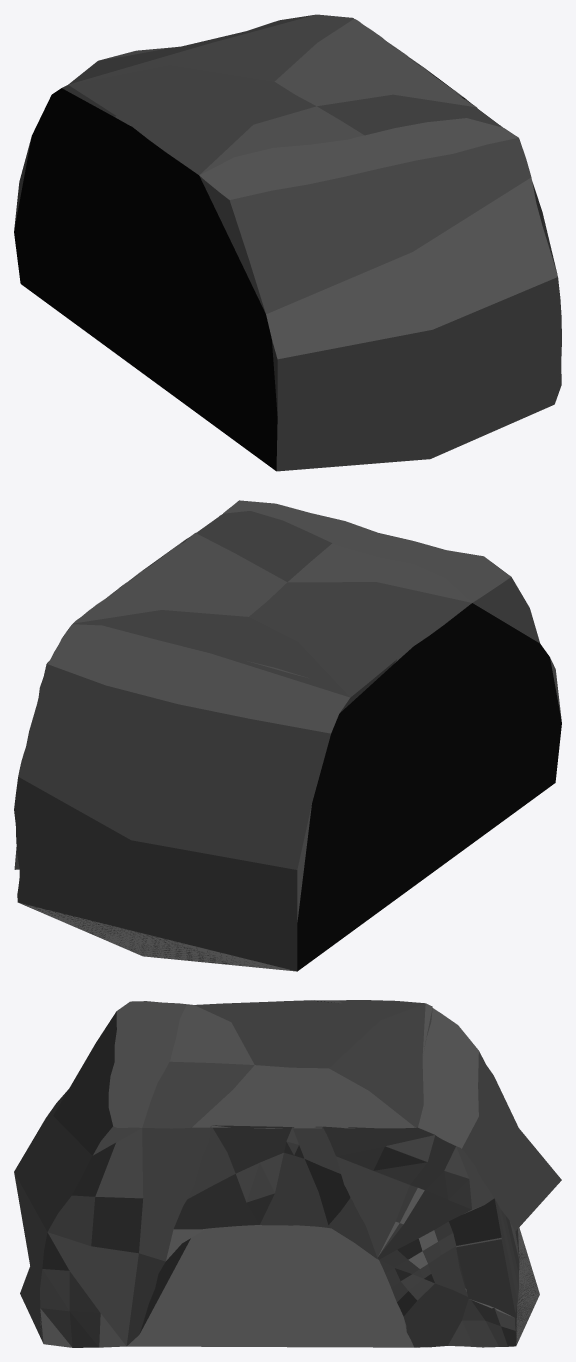
Rendered from 洞窟入口.fbx.
3 renders of one model, top to bottom at view 1: azimuth 30°, elevation 25°; view 2: azimuth 150°, elevation 25°; view 3: azimuth 270°, elevation 25°, orthographic. The views are drawn at different scales.
Visible parts, largest first — view 1: Cube; view 2: Cube; view 3: Cube.
Part boxes in pixels (left/top/right/bottom): Cube: left=14, top=14, right=561, bottom=471; Cube: left=14, top=500, right=561, bottom=971; Cube: left=14, top=1000, right=561, bottom=1347.
Size of the model in its own units: 1447 by 1230 by 2499.
Materials: 1 (1 with a texture image).
